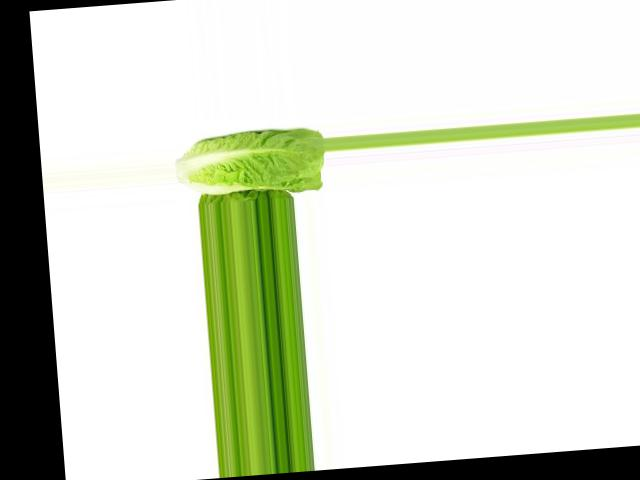lettuce: (172, 115, 328, 198)
